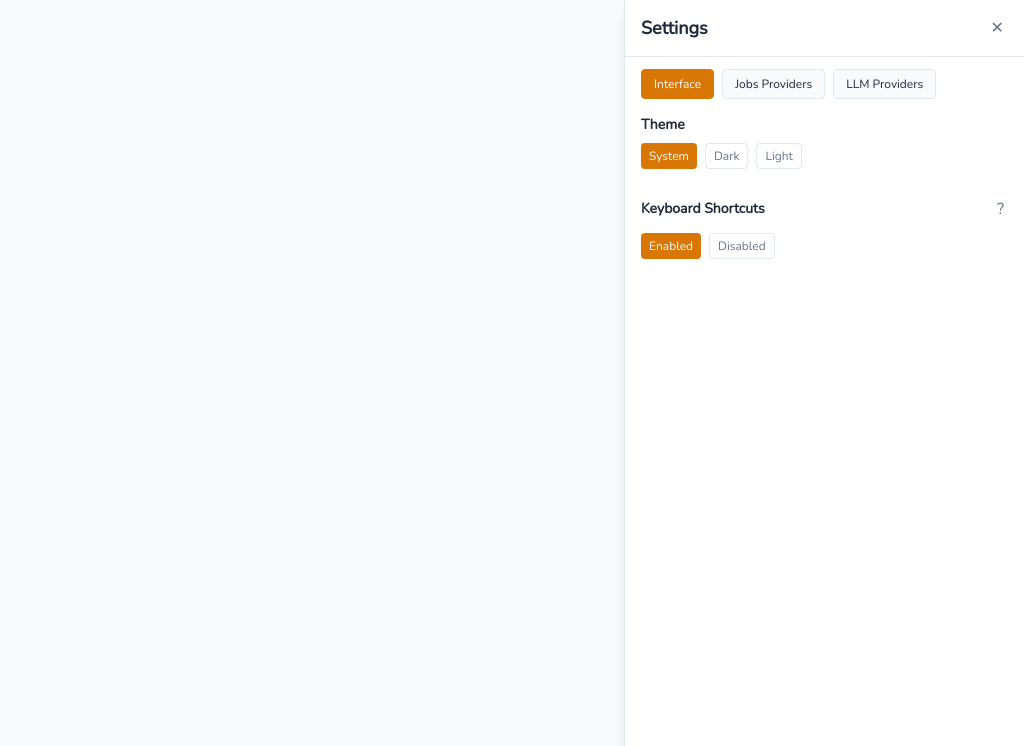
Test: SettingsPanel › shows local runtime system requirements guidance
Click the tab "LLM Providers": (885, 84) [833,69,936,99]
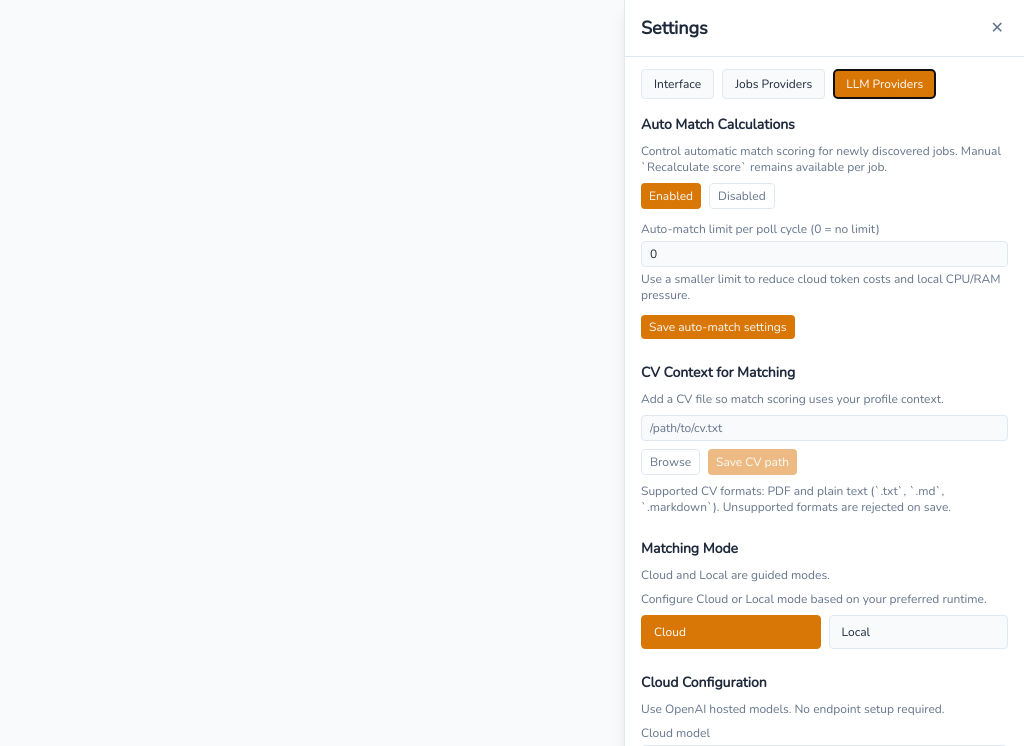
Click the radio button labelled "Local": (918, 632) [828,615,1008,649]
(page scrolled)
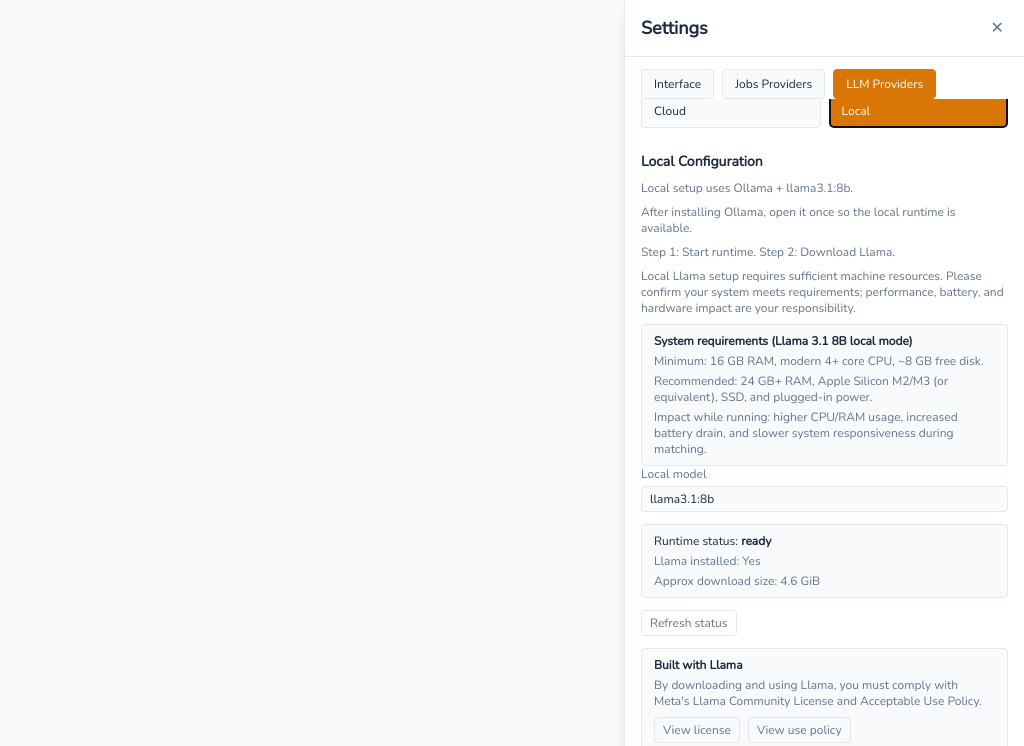
Check: the text "System requirements (Llama 3.1 8B local mode)" is shown, box [654,333,912,349]
Check: the text "Impact while running: higher CPU/RAM usage" is shown, box [654,409,958,457]
